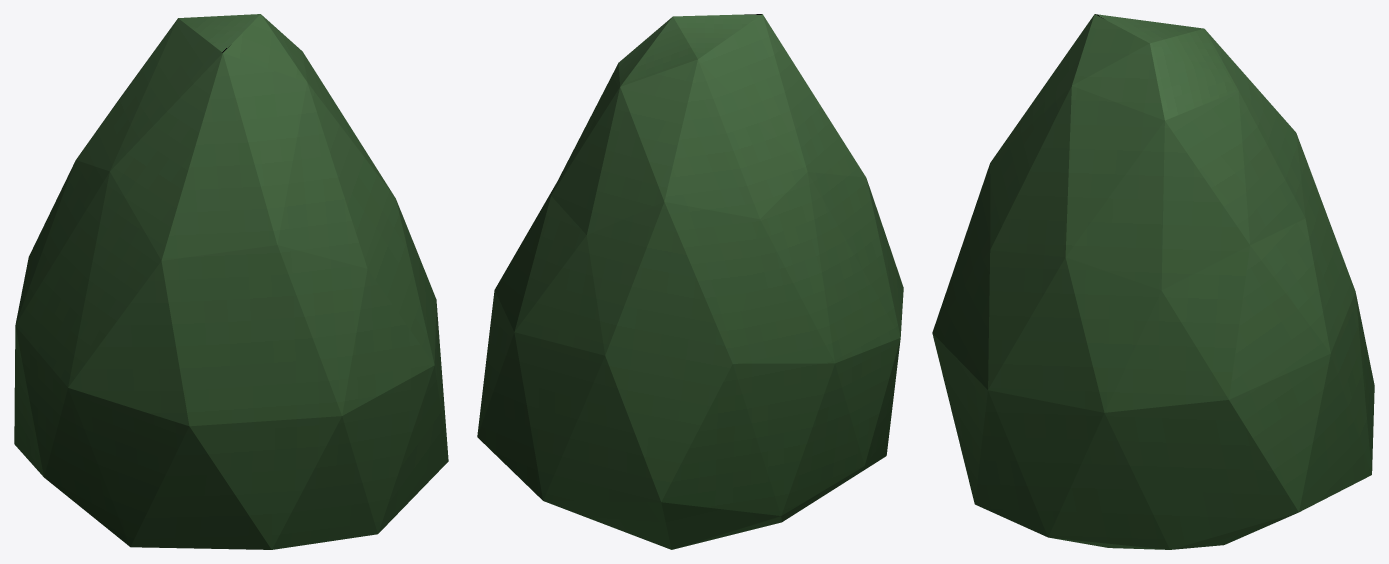
File: arbusto_a.glb
3 renders of one model, left to right at view 1: azimuth 30°, elevation 25°; view 2: azimuth 150°, elevation 25°; view 3: azimuth 270°, elevation 25°, orthographic. The views are drawn at different scales.
Visible parts, largest first — view 1: Bush8; view 2: Bush8; view 3: Bush8.
Part boxes in pixels (left/top/right/bottom): Bush8: left=14, top=14, right=448, bottom=549; Bush8: left=477, top=14, right=903, bottom=549; Bush8: left=932, top=14, right=1374, bottom=549.
Bounding box in the file's own units: 1.17 × 1.53 × 1.25.
Materials: 1 (1 with a texture image).
